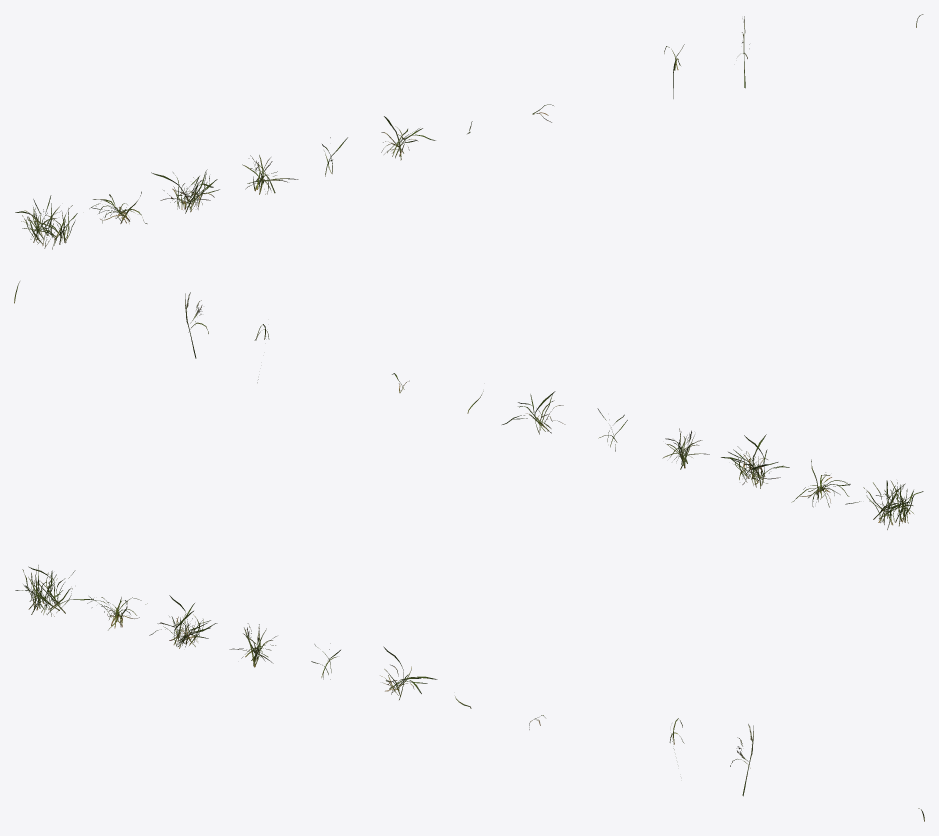
The model's file is grass_a.glb.
3 views of the same model, one above another, from view 1: azimuth 30°, elevation 25°; view 2: azimuth 150°, elevation 25°; view 3: azimuth 330°, elevation 25° (orthographic).
Visible parts, largest first — view 1: grass_medium_01_large_a_LOD0, grass_medium_01_large_c_LOD0; view 2: grass_medium_01_large_a_LOD0, grass_medium_01_large_c_LOD0; view 3: grass_medium_01_large_a_LOD0, grass_medium_01_large_c_LOD0.
Boxes of the visible parts, x1=… form: grass_medium_01_large_a_LOD0: x1=15, y1=195, x2=77, y2=249; grass_medium_01_large_c_LOD0: x1=151, y1=169, x2=219, y2=213; grass_medium_01_large_a_LOD0: x1=845, y1=480, x2=923, y2=529; grass_medium_01_large_c_LOD0: x1=721, y1=434, x2=789, y2=488; grass_medium_01_large_a_LOD0: x1=15, y1=565, x2=93, y2=616; grass_medium_01_large_c_LOD0: x1=149, y1=595, x2=217, y2=648.
Bounding box in the file's own units: 5.17 × 0.4157 × 0.4053.
1 material, 1 textured.
